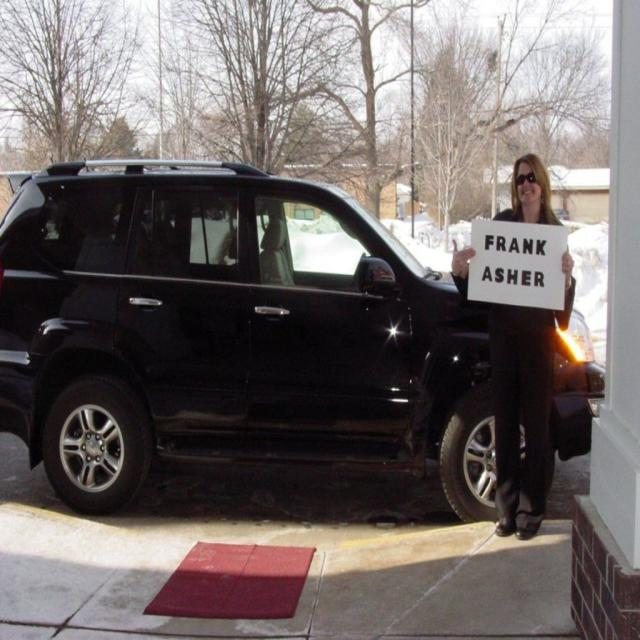car: (0, 156, 587, 537)
